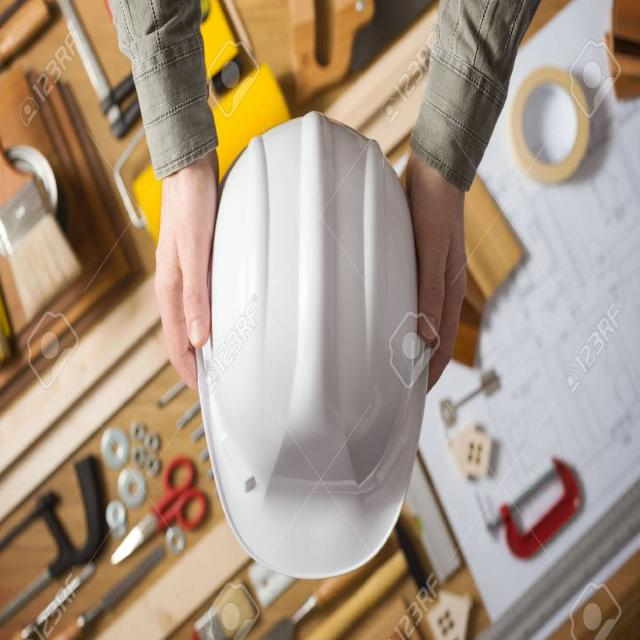helmet: (203, 121, 445, 543)
